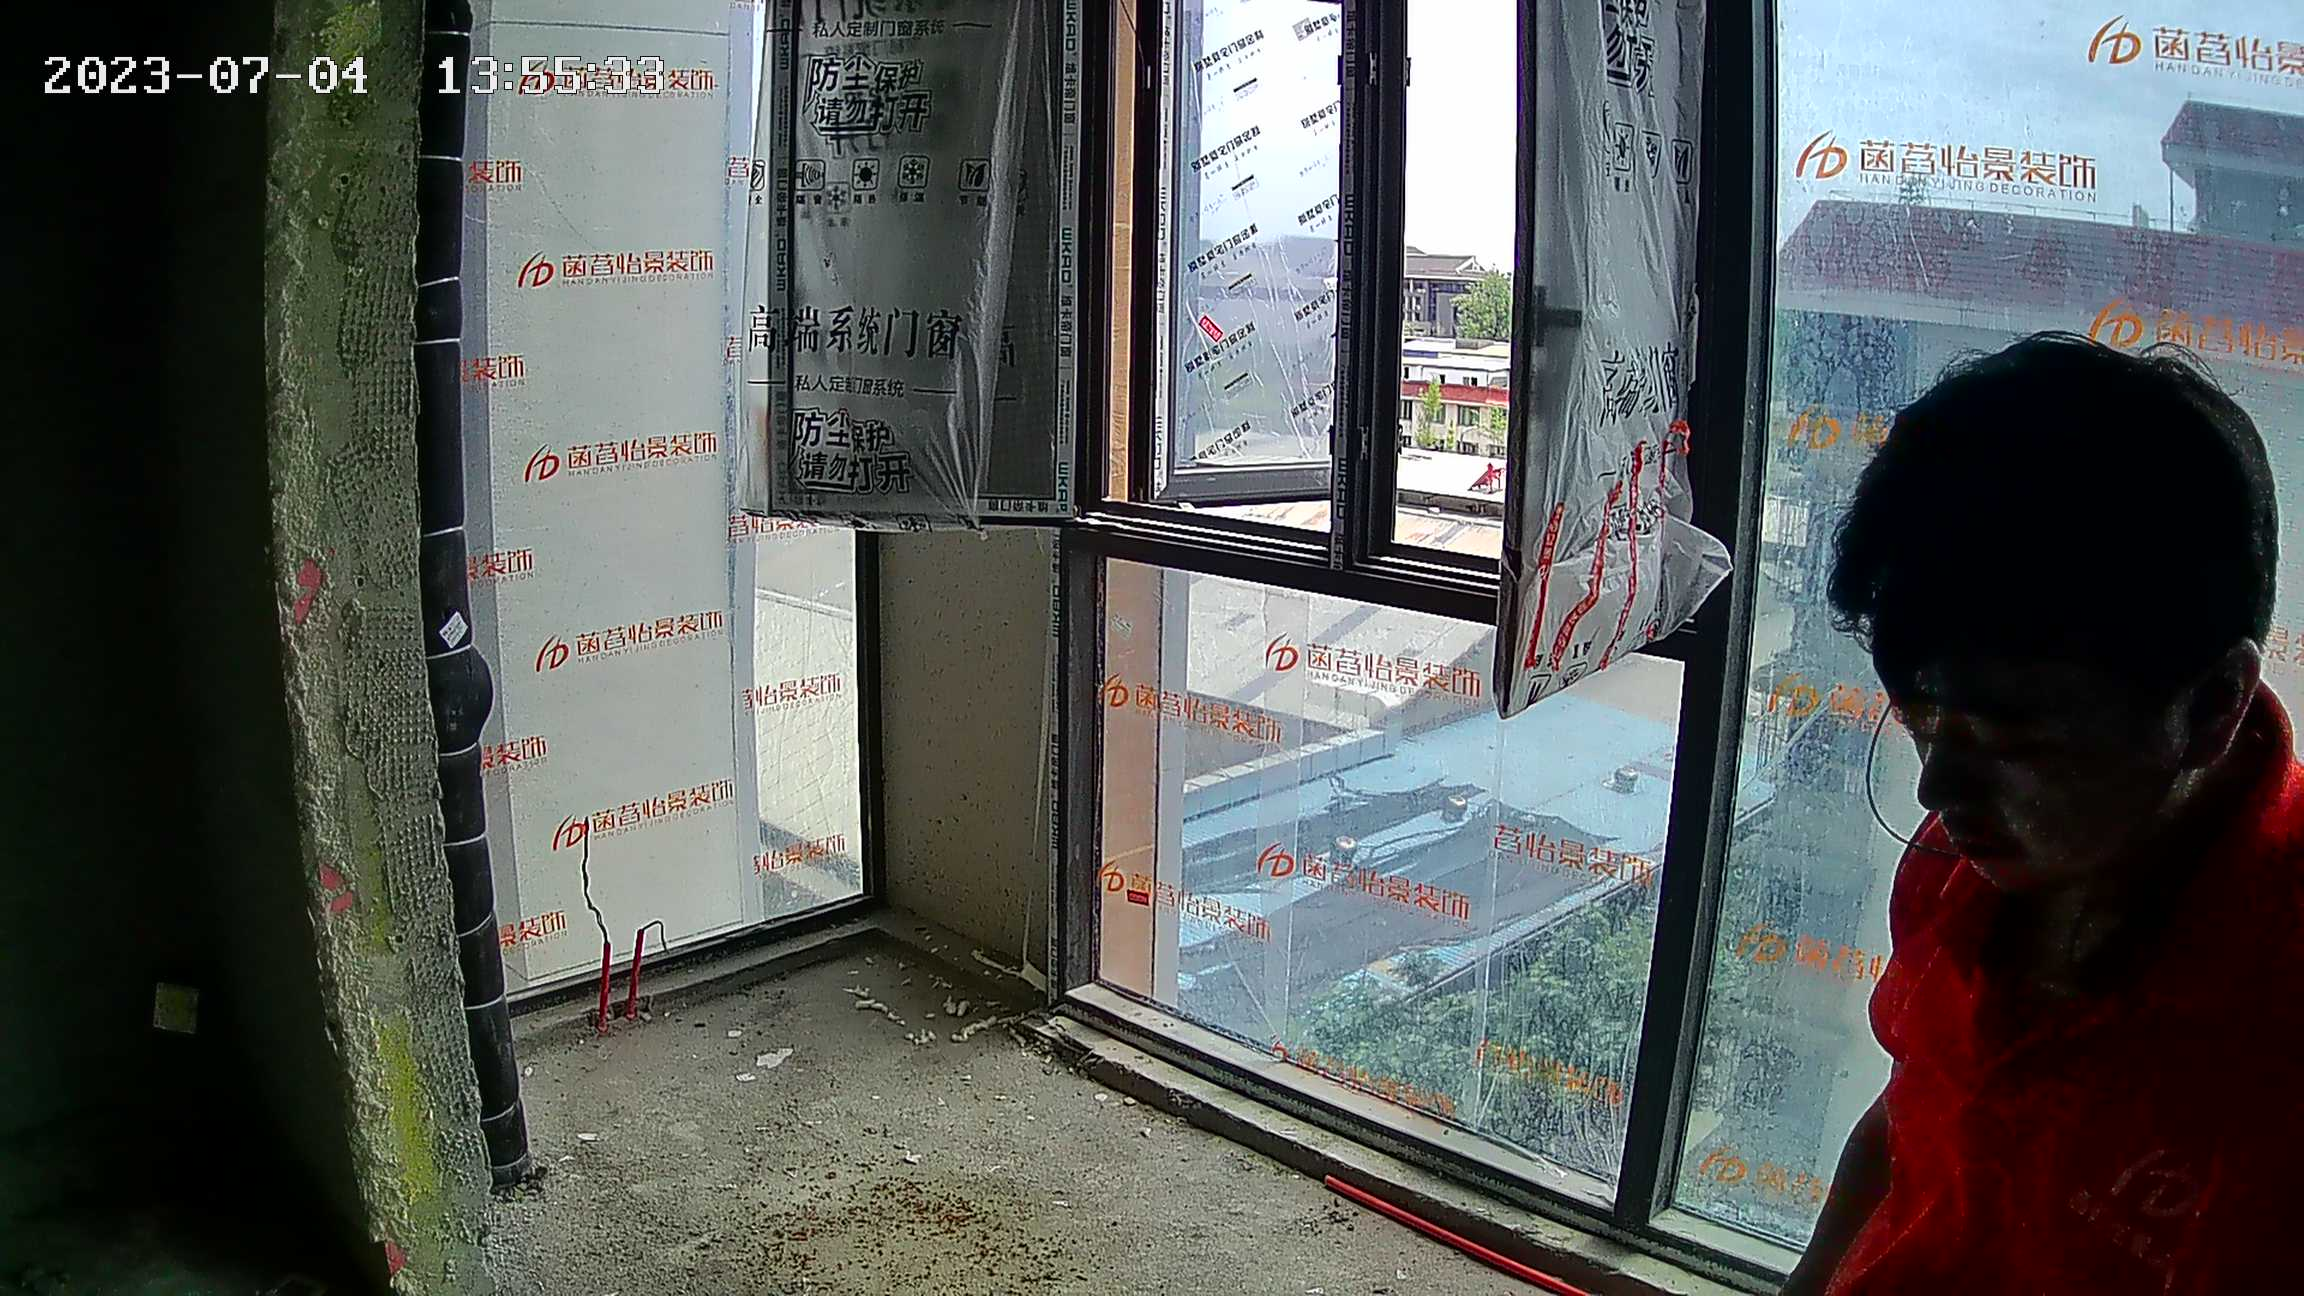people: (1749, 327, 2304, 1293)
window: (1074, 7, 2304, 1250), (449, 2, 880, 974)
